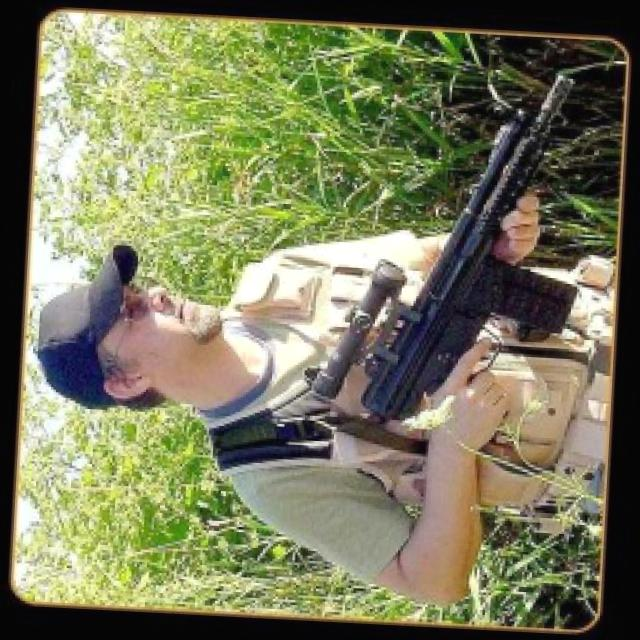long weapon: (320, 64, 574, 460)
